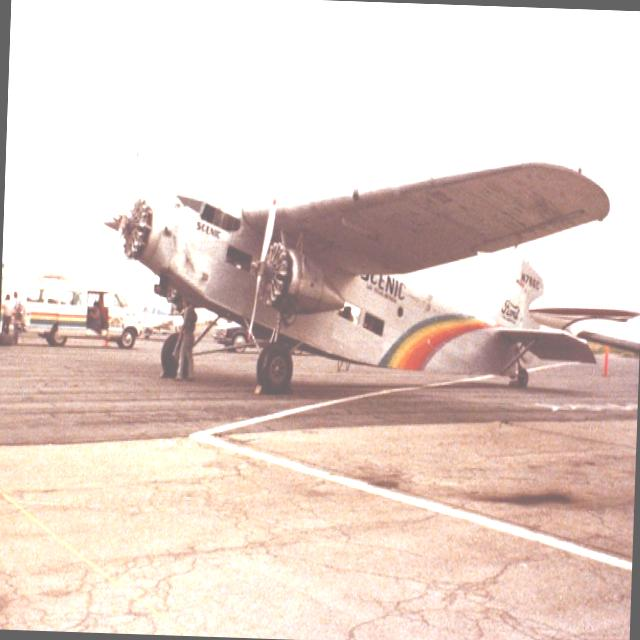Vehicle: (17, 284, 144, 350), (211, 322, 248, 354)
